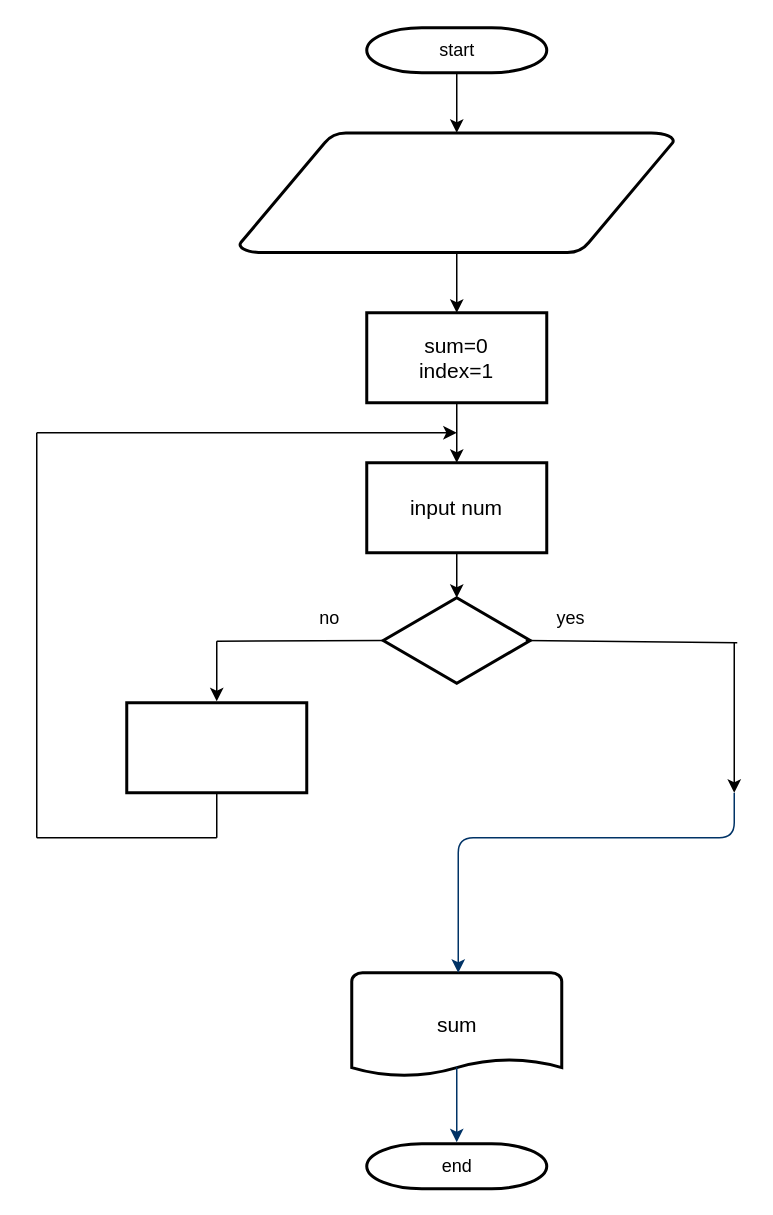
Image size: 773x1215. Some labels were removed from this diagram. The shapes that lost their labels are listed below. From the top down, each one's centre as x and y in pixels, then its label:
At [456,192]: "Введіть послідовність цілих чисел. Нуль – ознака кінця".
At [456,640]: "num=0".
At [216,747]: "sum = sum+num index=index+1".
